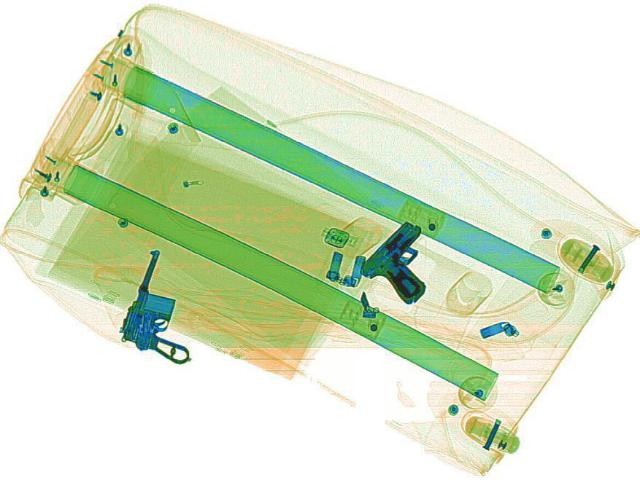Gun: (111, 245, 221, 364), (345, 217, 469, 305)
